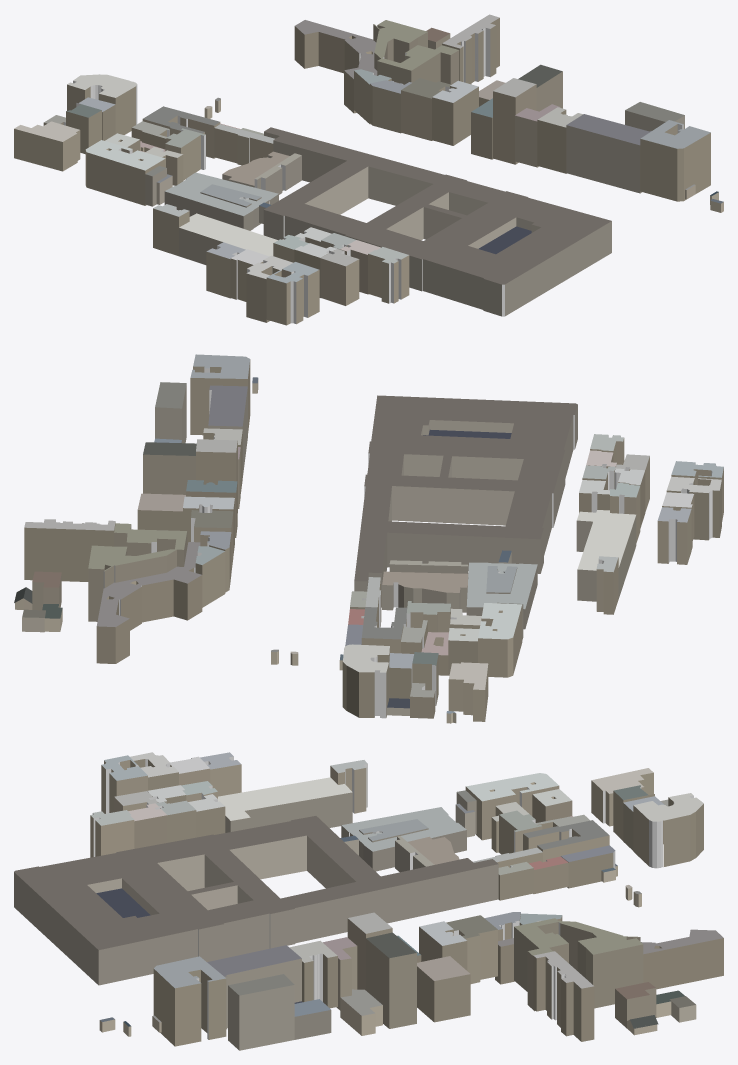
The picture shows the model from 3 angles, top to bottom: view 1: azimuth 30°, elevation 25°; view 2: azimuth 150°, elevation 25°; view 3: azimuth 270°, elevation 25°; orthographic projection. The views are drawn at different scales.
Visible parts, largest first — view 1: tuile; view 2: tuile; view 3: tuile.
Boxes of the visible parts, x1=… form: tuile: x1=14, y1=14, x2=723, y2=325; tuile: x1=14, y1=354, x2=723, y2=723; tuile: x1=14, y1=752, x2=723, y2=1050.
Size of the model in its own units: 267 by 37.7 by 306.
